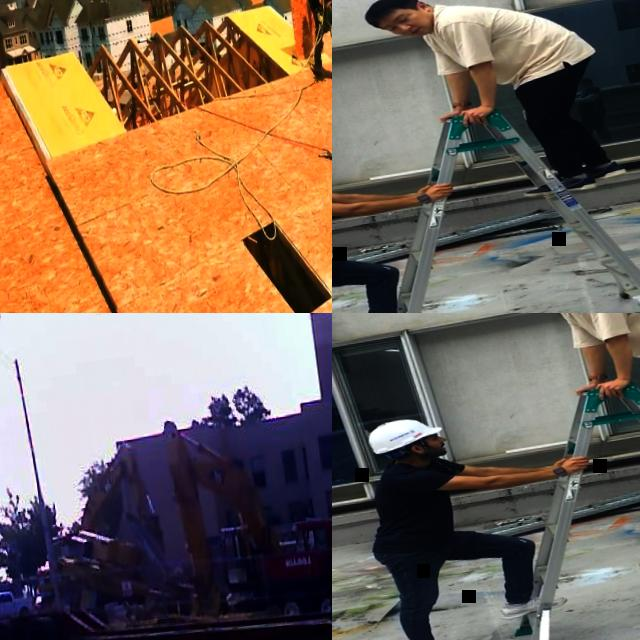Hardhat: (366, 414, 444, 454)
NO-Hardhat: (362, 0, 413, 29)
NO-Mask: (402, 20, 431, 39), (421, 440, 448, 458)
NO-Safety Vest: (433, 0, 582, 91), (368, 454, 468, 548), (569, 313, 640, 364), (310, 0, 332, 12)
Person: (355, 395, 612, 640), (363, 0, 631, 214), (332, 122, 476, 313), (499, 313, 640, 487), (300, 0, 332, 87)
vehicle: (158, 406, 302, 625), (17, 437, 172, 623), (0, 586, 34, 625)
